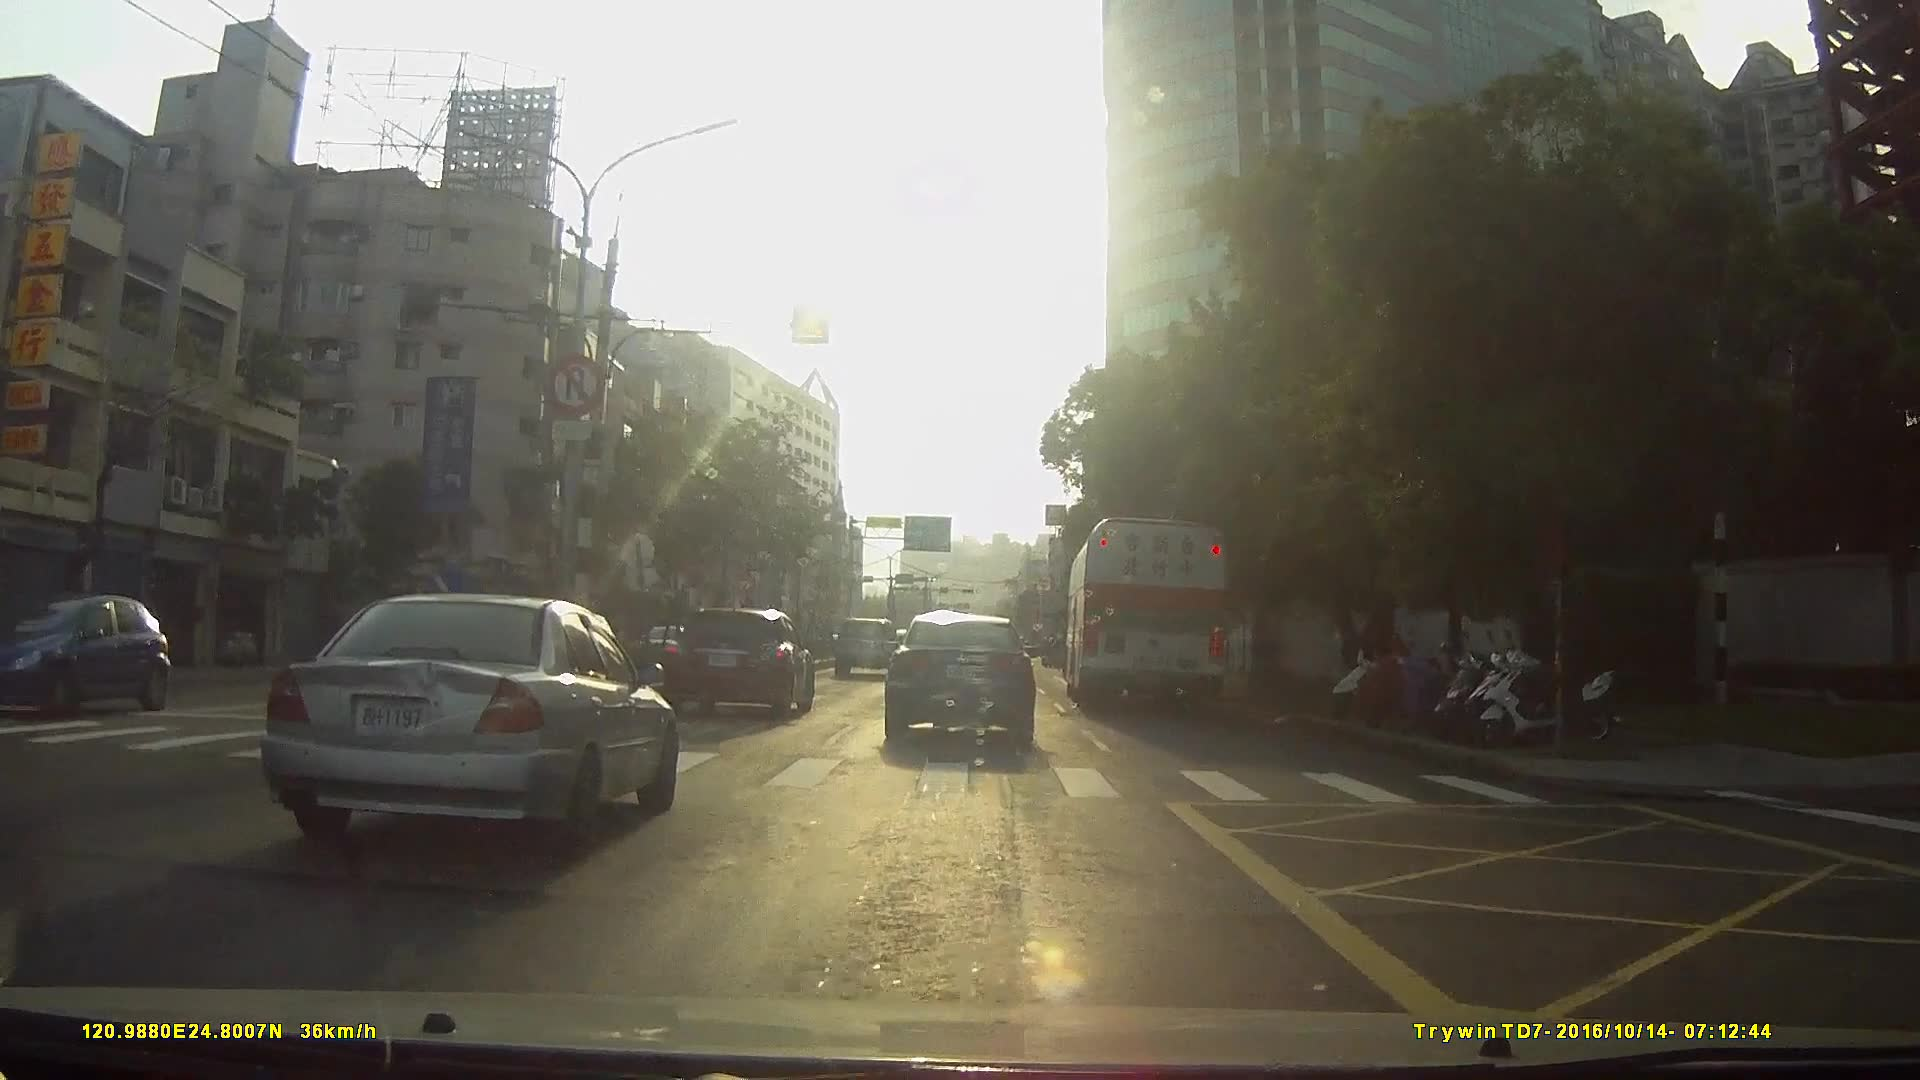vehicle: (252, 591, 675, 853), (1064, 512, 1232, 716), (1, 589, 208, 721), (882, 611, 1035, 748), (663, 604, 815, 721), (829, 613, 898, 676)
